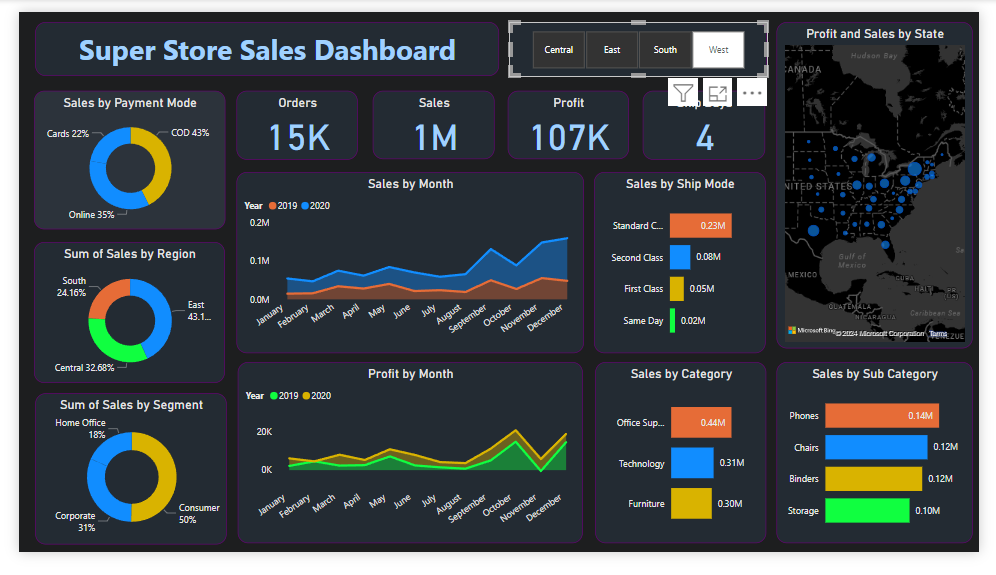

Layout of this report page (visuals, bound fields, positions):
{"tool":"powerbi","page":{"name":"Page 1","canvas":[1280,720],"ordinal":0},"visuals":[{"type":"clusteredBarChart","title":"Sales by Category","fields":{"Category":["Sheet1.Category"],"Y":["Sum(Sheet1.Sales)"]},"box":[769,466.2,228.3,241.7],"z":0},{"type":"clusteredBarChart","title":"Sales by Sub Category","fields":{"Category":["Sheet1.Sub-Category"],"Y":["Sum(Sheet1.Sales)"]},"box":[1010,466.2,261.2,241.2],"z":1000},{"type":"clusteredBarChart","title":"Sales by Ship Mode","fields":{"Category":["Sheet1.Ship Mode"],"Y":["Sum(Sheet1.Sales)"]},"box":[767.2,214,228.8,241.2],"z":2000},{"type":"stackedAreaChart","title":"Profit by Month","fields":{"Category":["Sheet1.Order Date.Variation.Date Hierarchy.Month","Sheet1.Order Date.Variation.Date Hierarchy.Day"],"Series":["Sheet1.Order Date.Variation.Date Hierarchy.Year"],"Y":["Sum(Sheet1.Profit)"]},"box":[291.8,466.3,460,241.7],"z":3000},{"type":"stackedAreaChart","title":"Sales by Month","fields":{"Y":["Sum(Sheet1.Sales)"],"Category":["Sheet1.Order Date.Variation.Date Hierarchy.Month","Sheet1.Order Date.Variation.Date Hierarchy.Day"],"Series":["Sheet1.Order Date.Variation.Date Hierarchy.Year"]},"box":[290.3,213.6,463.3,241.7],"z":4000},{"type":"map","title":"Profit and Sales by State","fields":{"Category":["Sheet1.State"],"Size":["Sum(Sheet1.Sales)"]},"box":[1010,13.8,261.2,435],"z":5000},{"type":"donutChart","fields":{"Category":["Sheet1.Segment"],"Y":["Sum(Sheet1.Sales)"]},"box":[21.7,508.3,255,201.7],"z":6000},{"type":"donutChart","title":"Sales by Payment Mode","fields":{"Category":["Sheet1.Payment Mode"],"Y":["Sum(Sheet1.Sales)"]},"box":[20.2,105.7,255,185],"z":7000},{"type":"slicer","fields":{"Values":["Sheet1.Region"]},"box":[653.8,13.8,343.8,72.5],"z":8000},{"type":"textbox","box":[22,14,618,72],"z":9000},{"type":"card","title":"Sales","fields":{"Values":["Sum(Sheet1.Sales)"]},"box":[471,105.2,162.5,91.2],"z":10000},{"type":"card","title":"Orders","fields":{"Values":["Sum(Sheet1.Quantity)"]},"box":[290.3,105.3,161.7,91.7],"z":11000},{"type":"card","title":"Profit","fields":{"Values":["Sum(Sheet1.Profit)"]},"box":[652.2,105.2,161.2,91.2],"z":12000},{"type":"card","title":"Ship Days","fields":{"Values":["Avg(Sheet1.AvgDelivery)"]},"box":[832,105.3,163.3,91.7],"z":13000},{"type":"donutChart","fields":{"Category":["Sheet1.Region"],"Y":["Sum(Sheet1.Sales)"]},"box":[20.5,306,254,188],"z":14000}]}

Visuals, with their boxes in screenshot pixels (x1, y1, x2, y2), scaled from the page's 1280x720 canvas onto the 996x575 screenshot:
"Sales by Category" clusteredBarChart: [598,372,776,565]
"Sales by Sub Category" clusteredBarChart: [786,372,989,565]
"Sales by Ship Mode" clusteredBarChart: [597,171,775,364]
"Profit by Month" stackedAreaChart: [227,372,585,565]
"Sales by Month" stackedAreaChart: [226,171,586,364]
"Profit and Sales by State" map: [786,11,989,358]
donutChart - Sheet1.Segment x Sum(Sheet1.Sales): [17,406,215,567]
"Sales by Payment Mode" donutChart: [16,84,214,232]
slicer - Sheet1.Region: [509,11,776,69]
textbox: [17,11,498,69]
"Sales" card: [366,84,493,157]
"Orders" card: [226,84,352,157]
"Profit" card: [507,84,633,157]
"Ship Days" card: [647,84,774,157]
donutChart - Sheet1.Region x Sum(Sheet1.Sales): [16,244,214,395]
